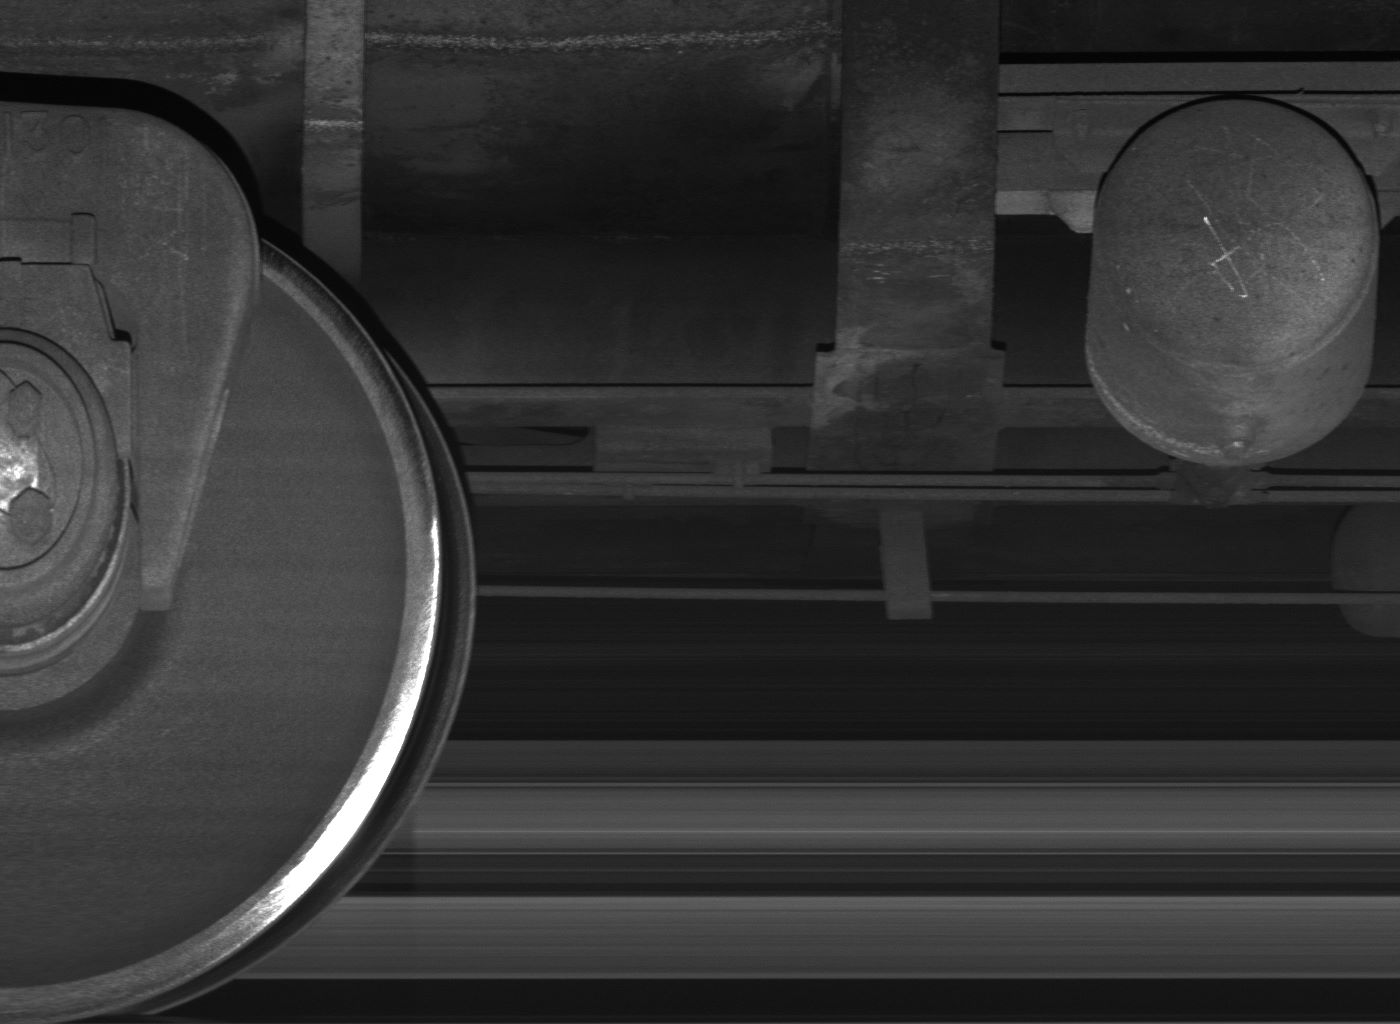normal: (878, 513, 938, 620)
